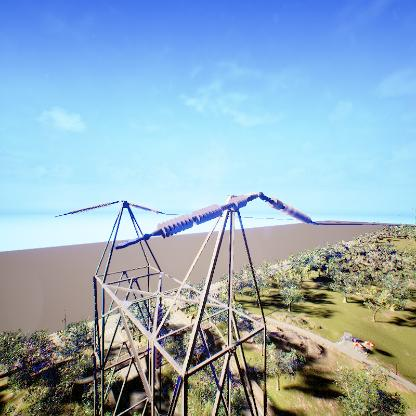insulator: (154, 195, 249, 240), (270, 198, 313, 223)
